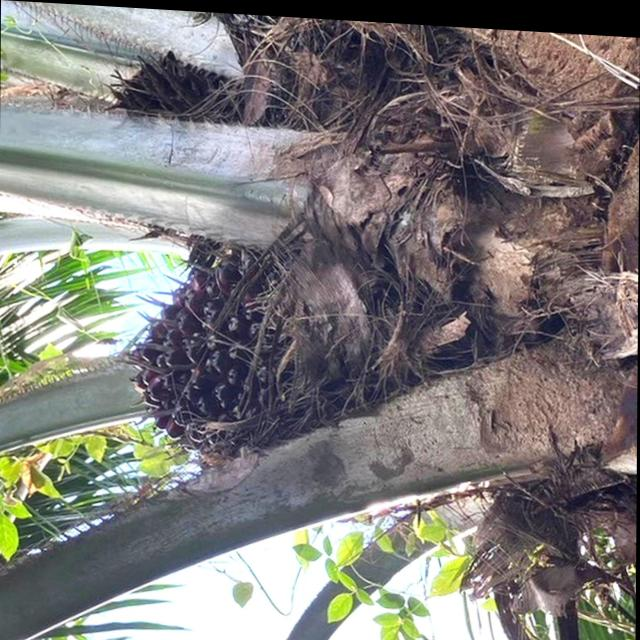ripe: (105, 217, 387, 497)
